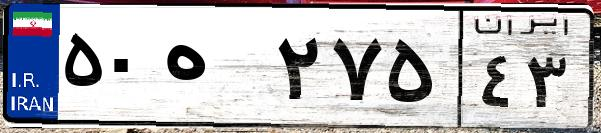0: (110, 28, 158, 98)
2: (270, 28, 330, 110)
3: (525, 38, 570, 115)
4: (475, 38, 525, 113)
5: (385, 28, 445, 110), (57, 26, 110, 100)
7: (330, 28, 385, 110)
ه: (158, 20, 270, 120)
